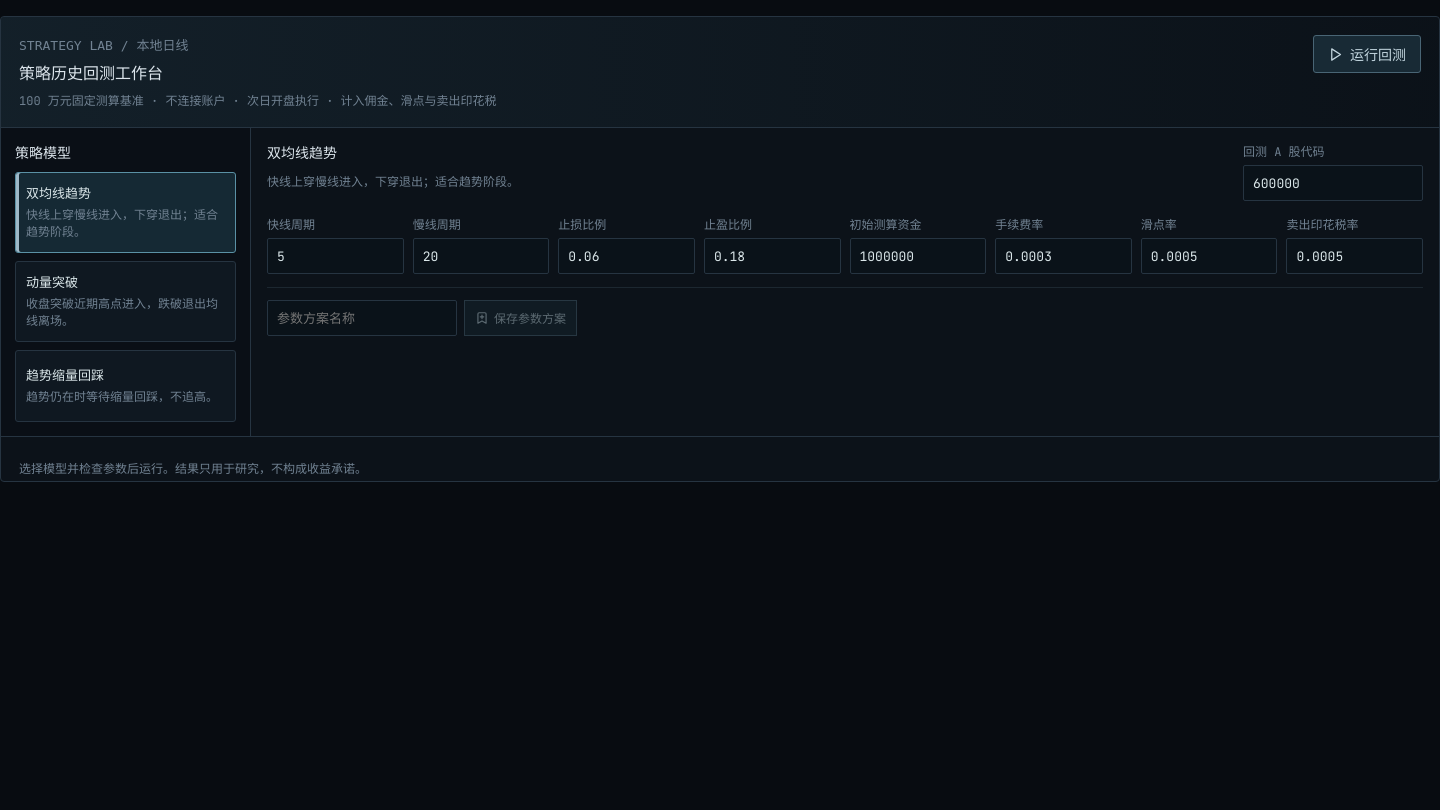
Scenario: BacktestPanel › isolates out-of-order results and clears prior output when the input changes
This screenshot has width=1440, height=810.
Step 1. Click the button "运行回测" → (1367, 54), box [1313,35,1421,73]
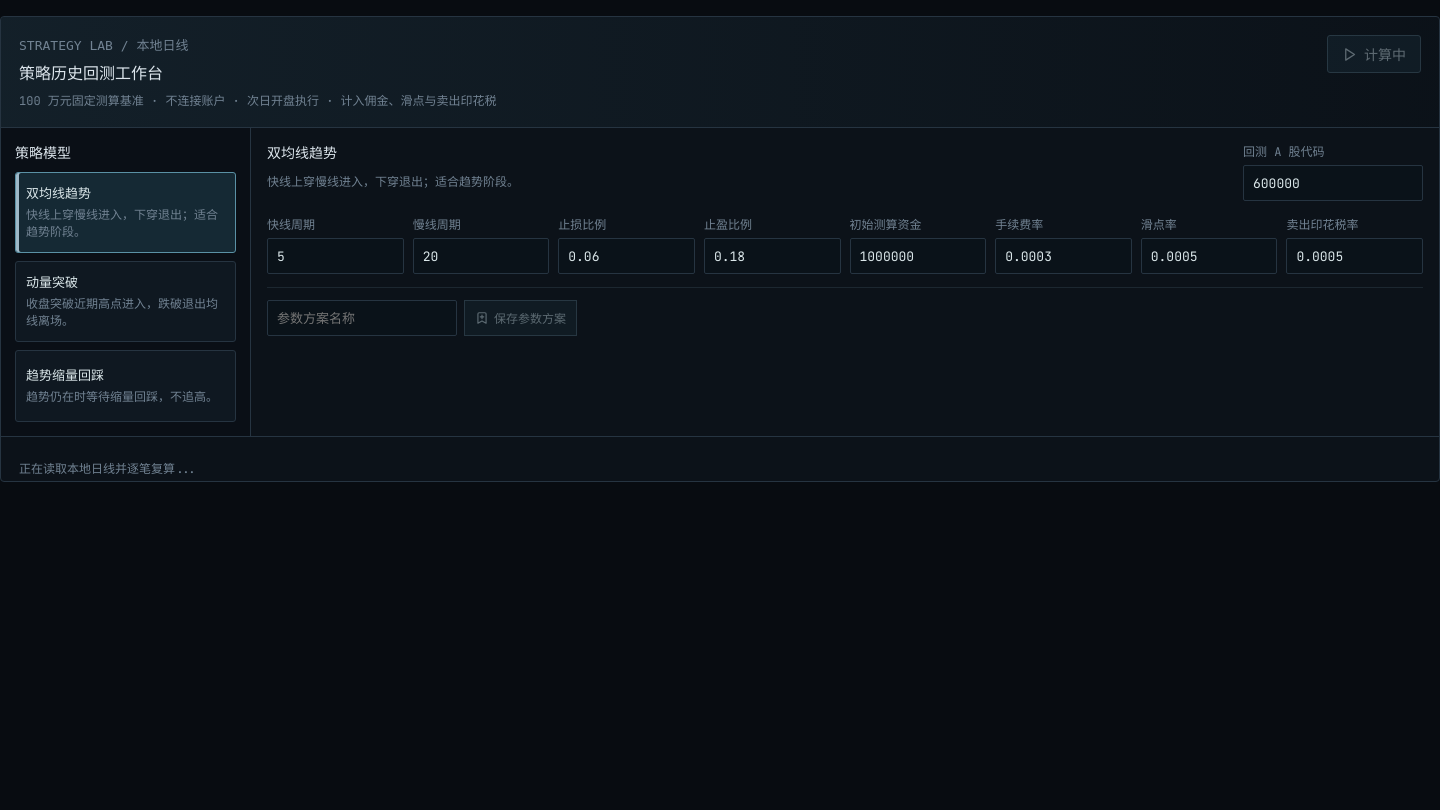
Step 2. Replace the text in the field labelled "回测 A 股代码" with "000001" → (1333, 183), box [1243,165,1423,201]
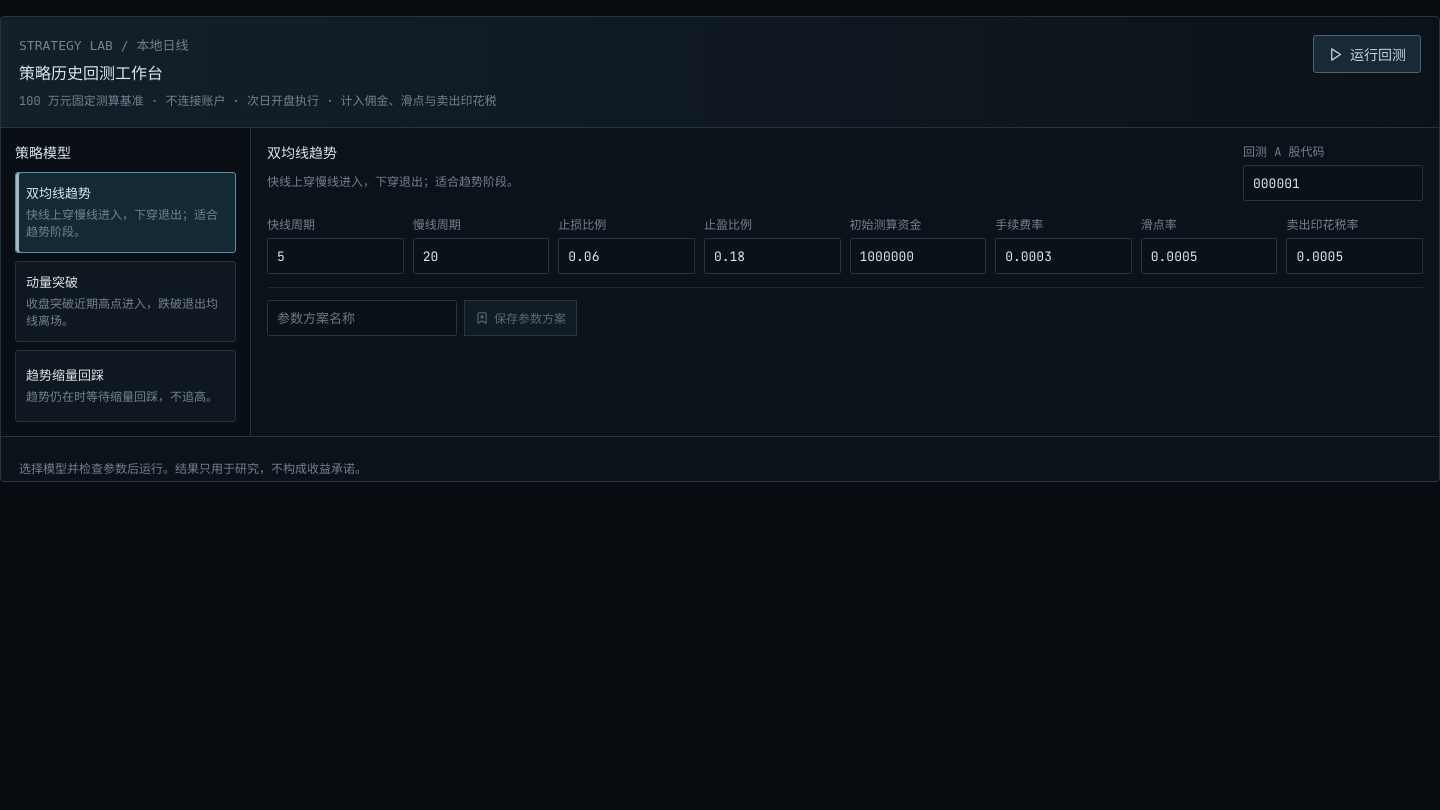
Step 3. Click the button "运行回测" → (1367, 54), box [1313,35,1421,73]
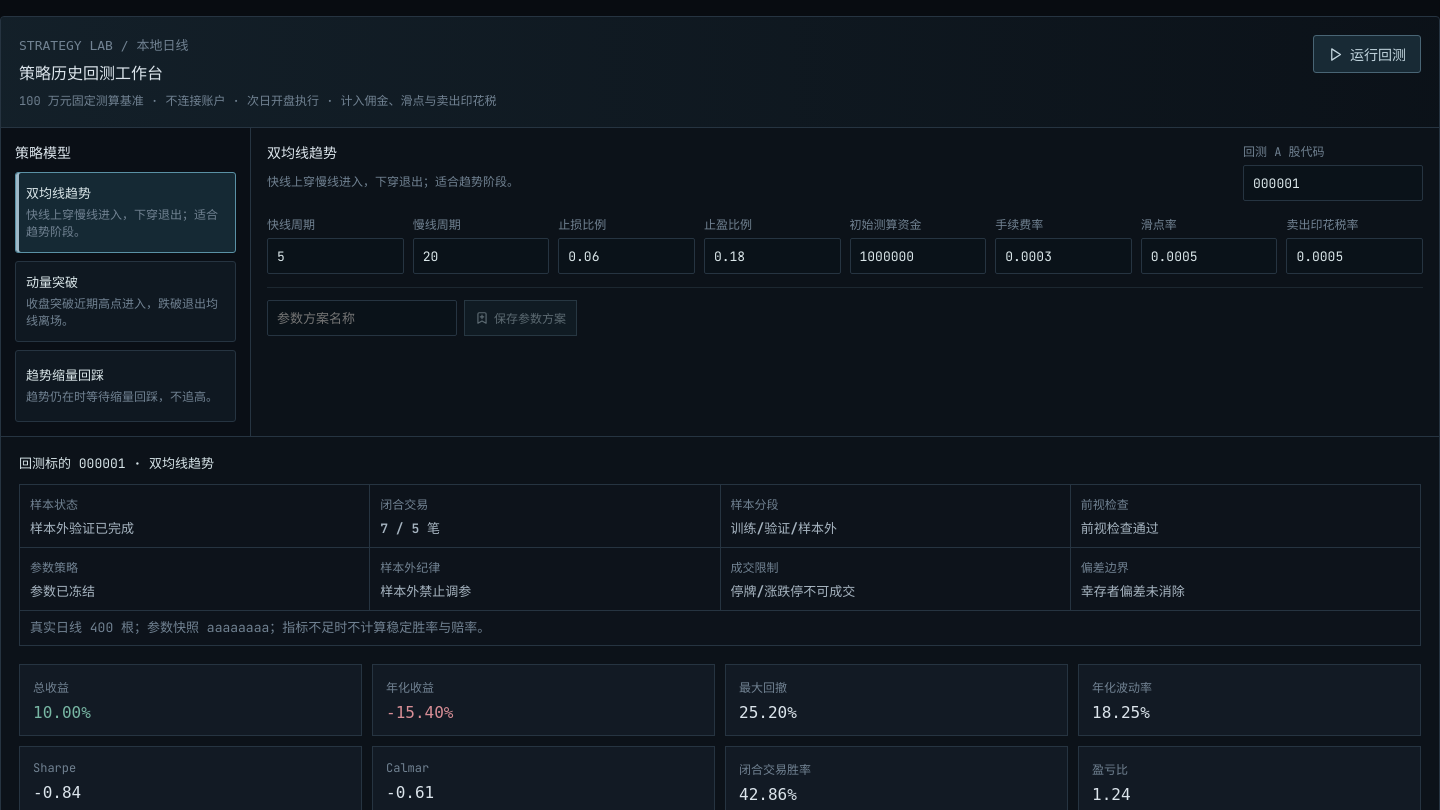
Result: the text "回测标的 000001" is shown at [19,455,126,472]
Step 4. Replace the text in the field labelled "回测 A 股代码" with "600519" → (1333, 183), box [1243,165,1423,201]
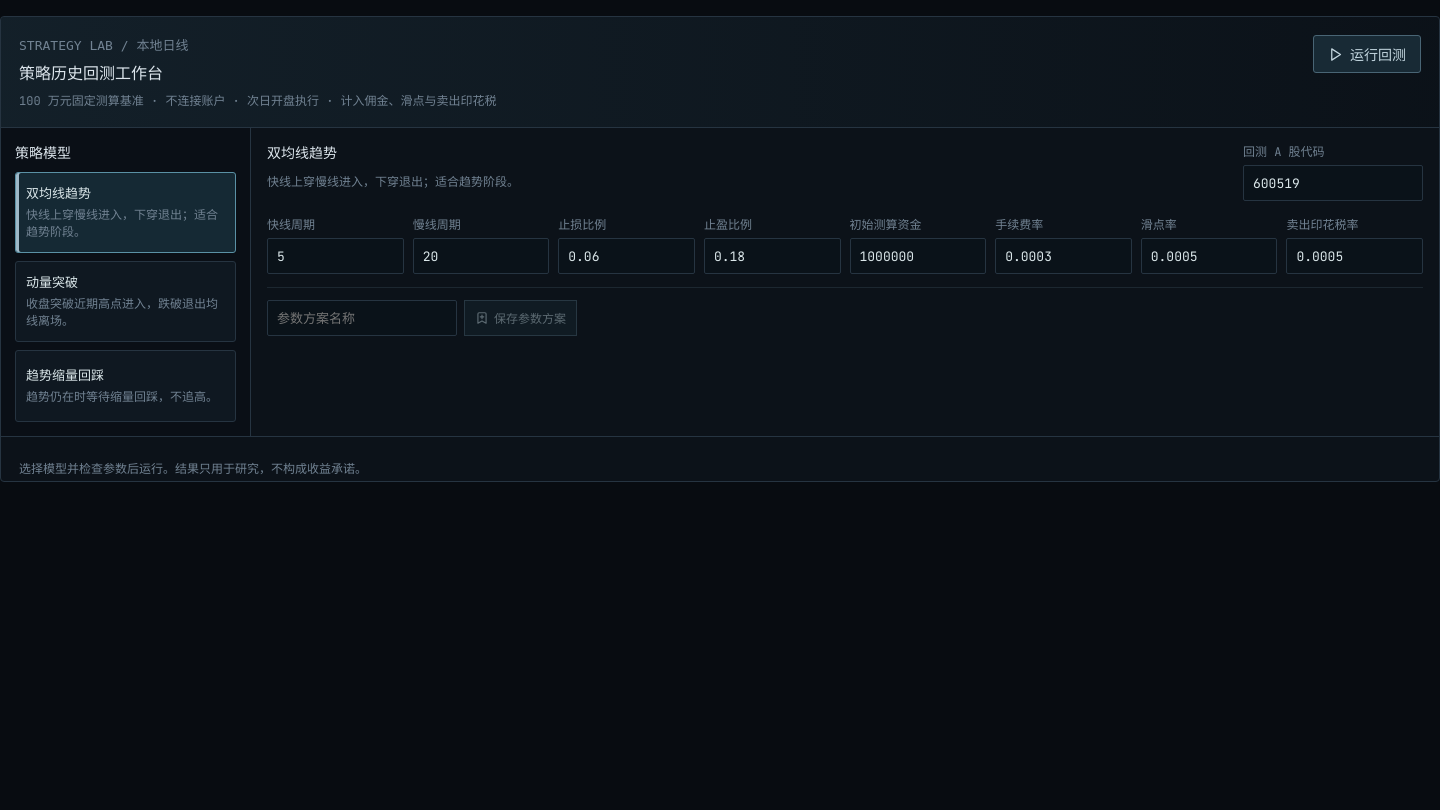
Result: the text "回测标的 000001" is gone
